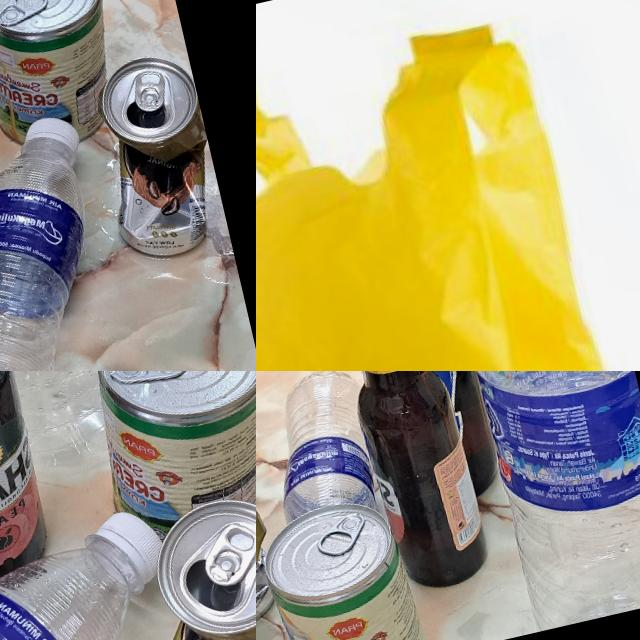aba de lata: (198, 516, 256, 589), (313, 510, 370, 564), (130, 68, 172, 114), (0, 0, 52, 27), (106, 371, 187, 388)
garrafa de vidro: (327, 371, 492, 599), (317, 371, 500, 513), (0, 371, 63, 605)
garrafa plástica: (430, 371, 640, 632), (0, 135, 133, 371), (0, 371, 200, 495), (256, 371, 381, 525), (0, 537, 164, 640)
lata: (68, 371, 256, 551), (82, 45, 230, 266), (256, 489, 429, 640), (102, 484, 256, 640), (0, 0, 134, 159), (256, 494, 283, 636)
sacola plástica: (256, 7, 623, 371)
tampa plástica: (96, 502, 172, 591), (22, 111, 84, 166)
